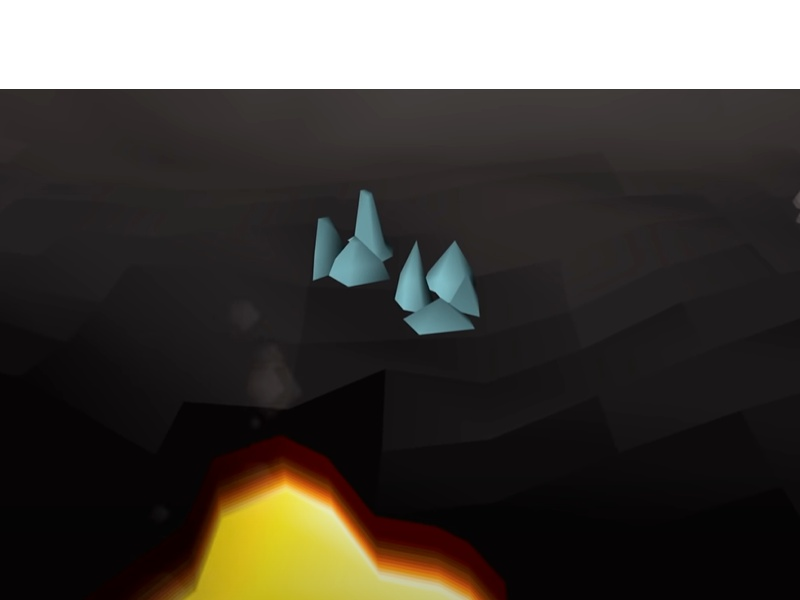rune: (391, 234, 488, 338), (308, 185, 396, 289)
